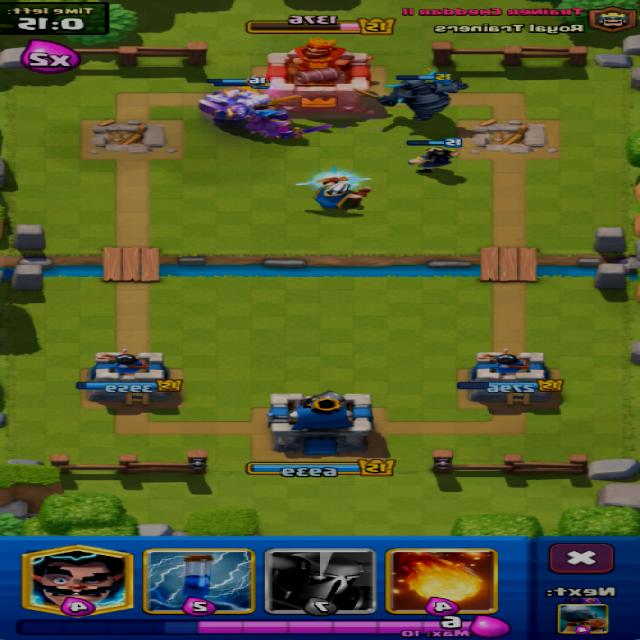Enemy-KingTower-Activated: (266, 36, 371, 115)
